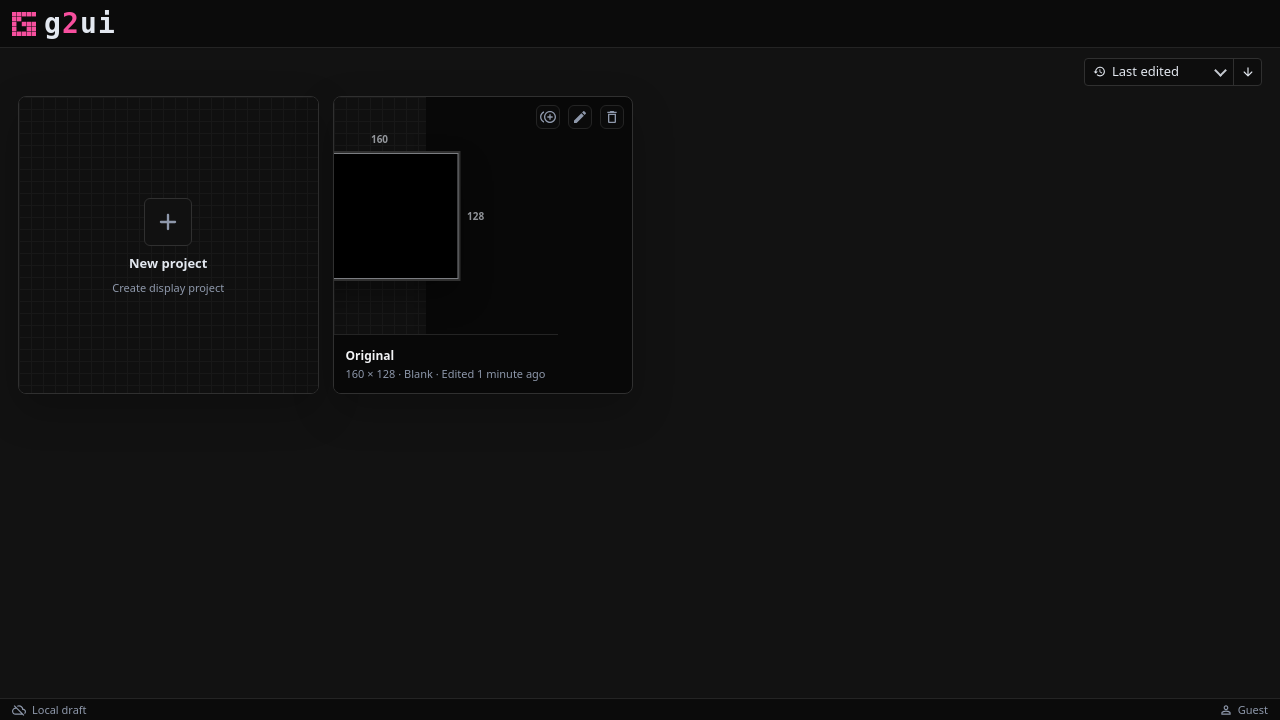
Test case: LibraryPage: edit flow › opens edit modal and persists name change
The image size is (1280, 720).
Click the button named "Edit Original": (580, 117) [568,105,592,129]
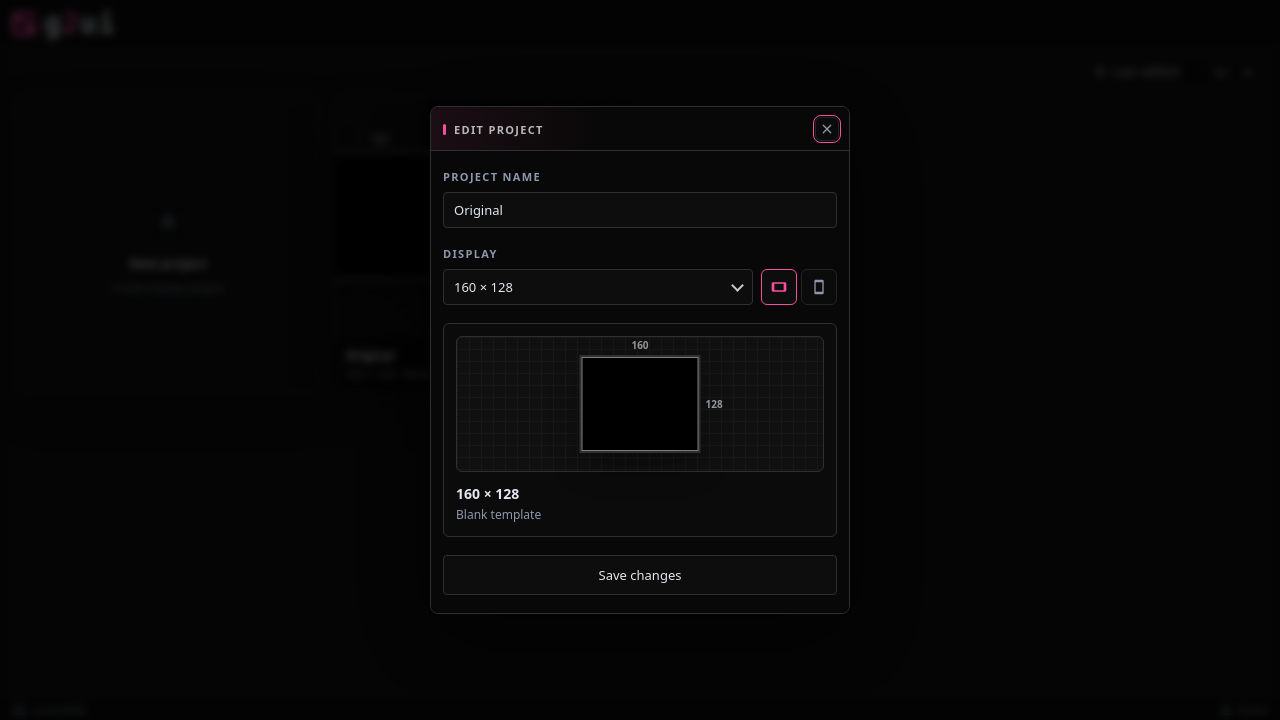
Expected: the text "Edit project" is shown, [454,122,544,137]
Replace the text in the field showing "Original" with "Renamed": (640, 210) [443,192,837,228]
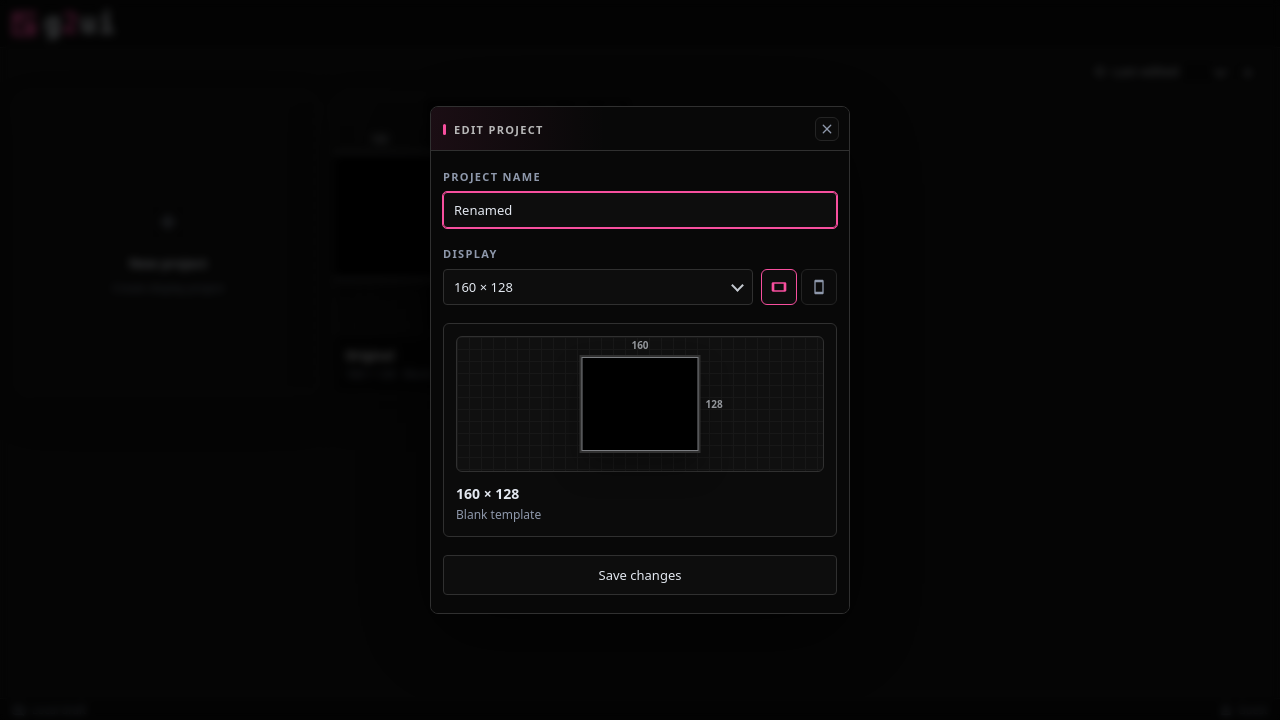
Click the button "Save changes": (640, 575) [443,555,837,595]
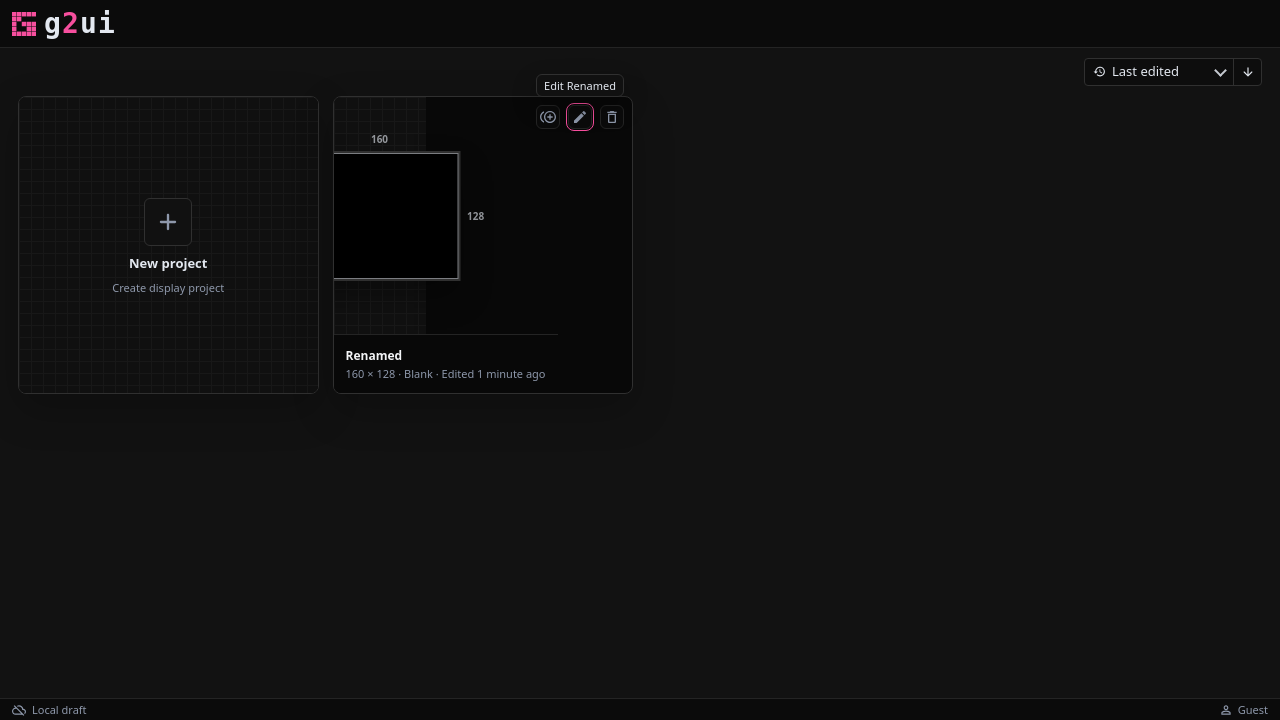
Expected: the text "Renamed" is shown, [346,347,402,364]
